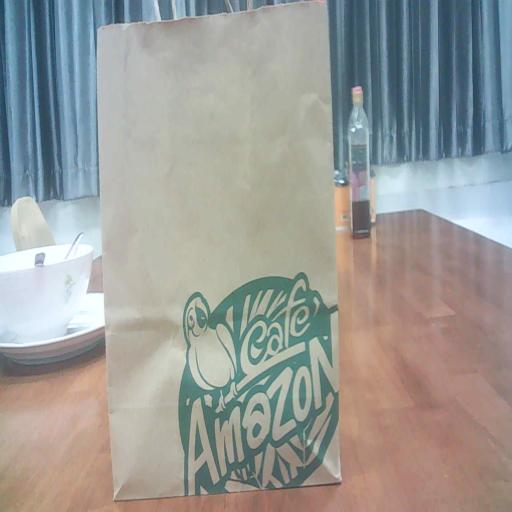bag: (91, 0, 353, 512)
